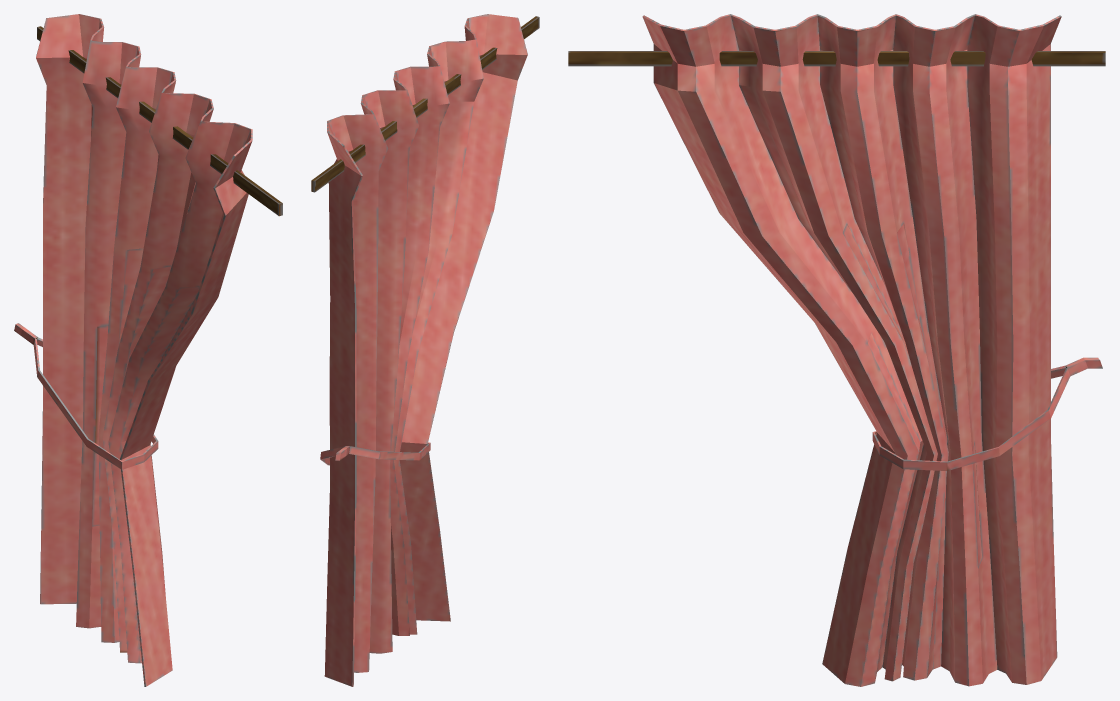
The model's file is curtains.glb.
The picture shows the model from 3 angles, left to right: view 1: azimuth 30°, elevation 25°; view 2: azimuth 150°, elevation 25°; view 3: azimuth 270°, elevation 25°; orthographic projection. The views are drawn at different scales.
Parts seen in each view (by area): view 1: Plane; view 2: Plane; view 3: Plane.
Part boxes in pixels (<box>): Plane: <box>14,14,282,686</box>; Plane: <box>311,14,539,686</box>; Plane: <box>568,14,1105,686</box>.
Bounding box in the file's own units: 0.3462 × 2.72 × 2.01.
1 material, 1 textured.
